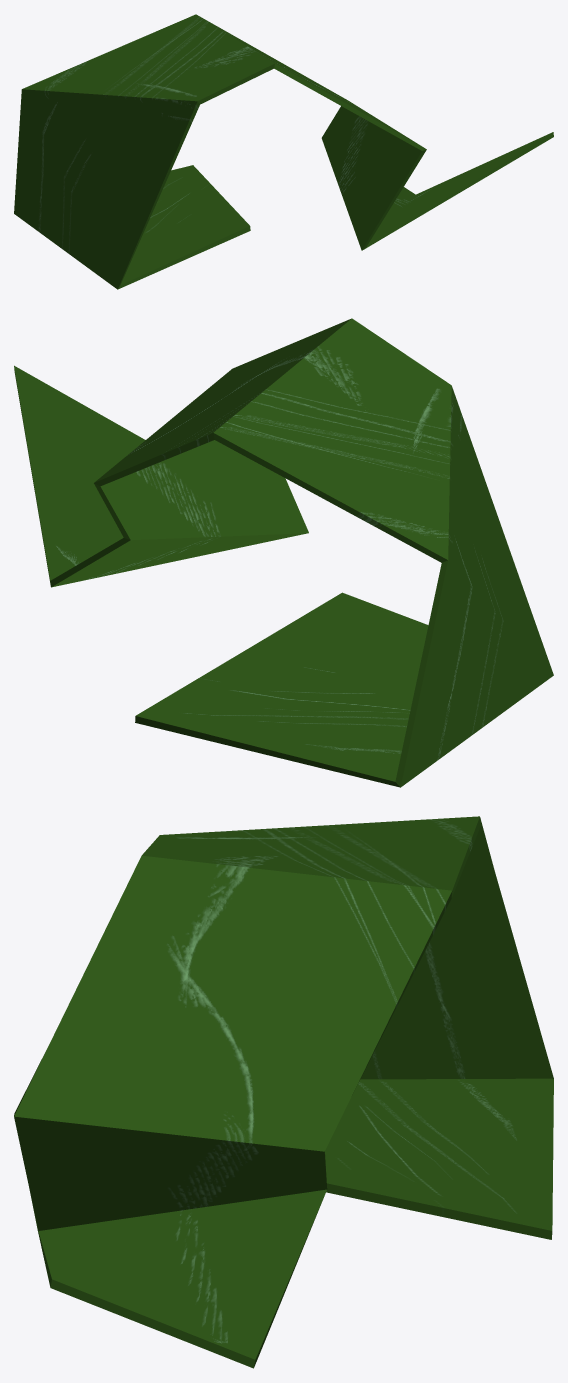
The model's file is Lataria2.fbx.
3 views of the same model, one above another, from view 1: azimuth 30°, elevation 25°; view 2: azimuth 150°, elevation 25°; view 3: azimuth 270°, elevation 25° (orthographic). The views are drawn at different scales.
Visible parts, largest first — view 1: Plano.002; view 2: Plano.002; view 3: Plano.002.
Boxes of the visible parts, left/top/right/bottom form: Plano.002: left=14, top=14, right=553, bottom=289; Plano.002: left=14, top=318, right=553, bottom=787; Plano.002: left=14, top=816, right=553, bottom=1368.
Bounding box in the file's own units: 121 × 56.32 × 76.19.
